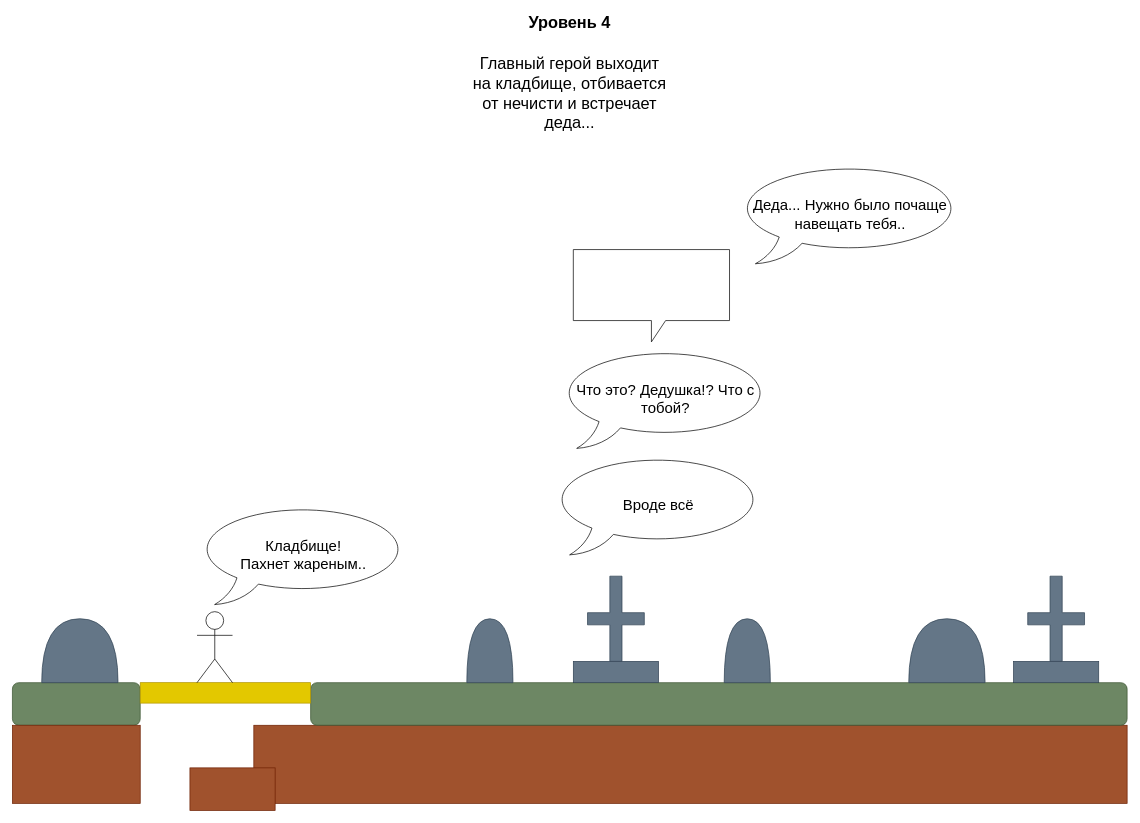
The diagram is 1140 pixels wide and 823 high, and some of its shapes have lost their labels. The shapes that lost their labels are listed below. From the top down, each one's box as (x1, y1, x2, y2) in pixels, then its label:
(573, 249, 730, 342): Я.. Я.. Внучек?. Кажется я доигрался. Я не управляю собой.. ААААА
(196, 611, 233, 683): Главный герой
